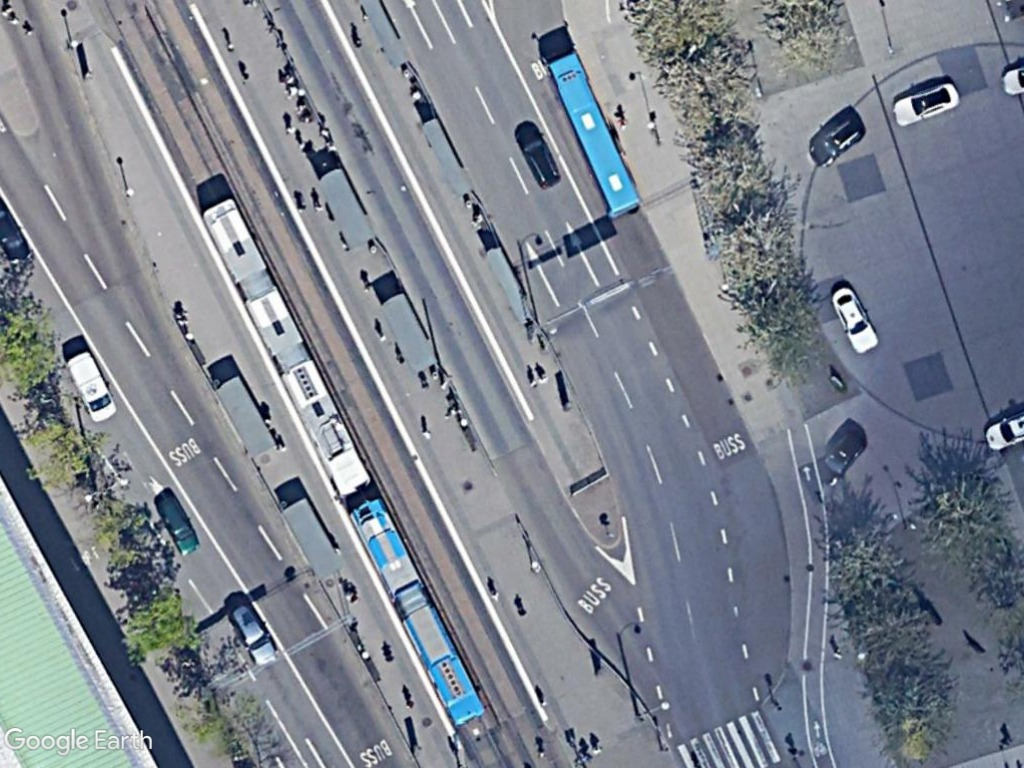bus: (547, 49, 644, 219), (283, 353, 374, 508), (403, 602, 489, 731)
car: (886, 78, 970, 131), (227, 592, 283, 671), (808, 422, 869, 491), (831, 282, 883, 361), (510, 122, 566, 194), (803, 109, 866, 169), (155, 489, 205, 561)
van: (64, 346, 121, 431)
